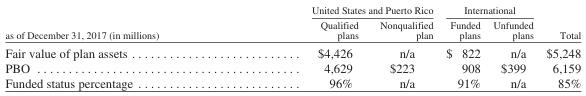table: (4, 3, 580, 89)
table column: (4, 3, 234, 89), (234, 3, 368, 89), (368, 3, 438, 89), (486, 3, 539, 89), (438, 3, 486, 89), (539, 3, 580, 89)
table column header: (4, 3, 580, 42)
table row: (4, 16, 580, 42), (4, 42, 580, 60), (4, 60, 580, 75), (4, 75, 580, 89), (4, 3, 580, 16)
table spanning cell: (4, 3, 234, 42), (234, 3, 438, 16), (539, 3, 580, 42), (438, 3, 539, 16)
